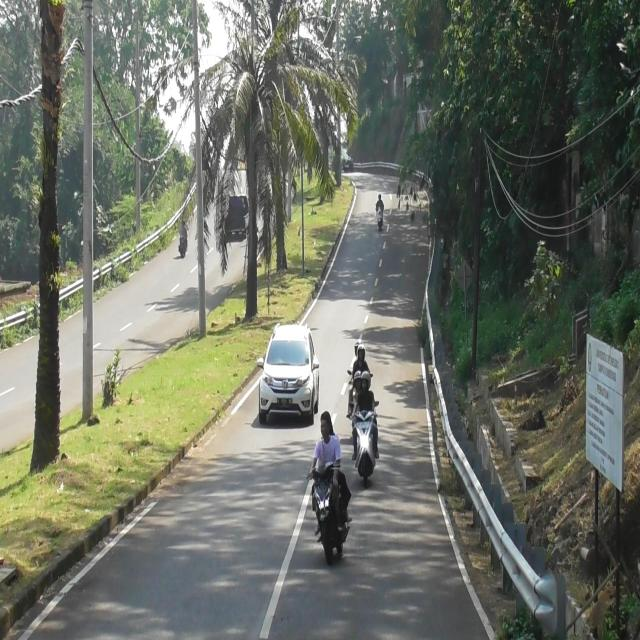motorcycle: (306, 459, 349, 561), (350, 400, 380, 487), (374, 203, 385, 230)
person: (317, 410, 351, 522), (308, 418, 339, 487), (353, 372, 378, 416), (352, 370, 368, 411), (354, 346, 371, 376), (352, 343, 364, 363), (375, 192, 385, 210)
rider_region: (304, 408, 351, 568), (349, 368, 383, 490), (373, 186, 387, 228)
